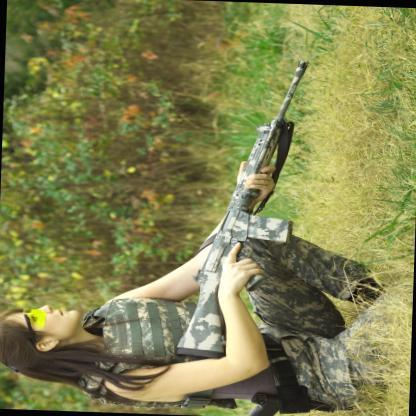rifle: (167, 55, 328, 360), (242, 391, 332, 416)
